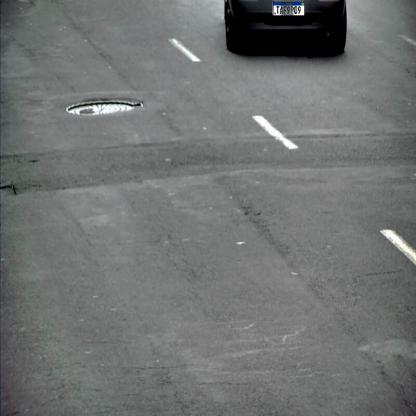PlacaM: (273, 1, 305, 16)
